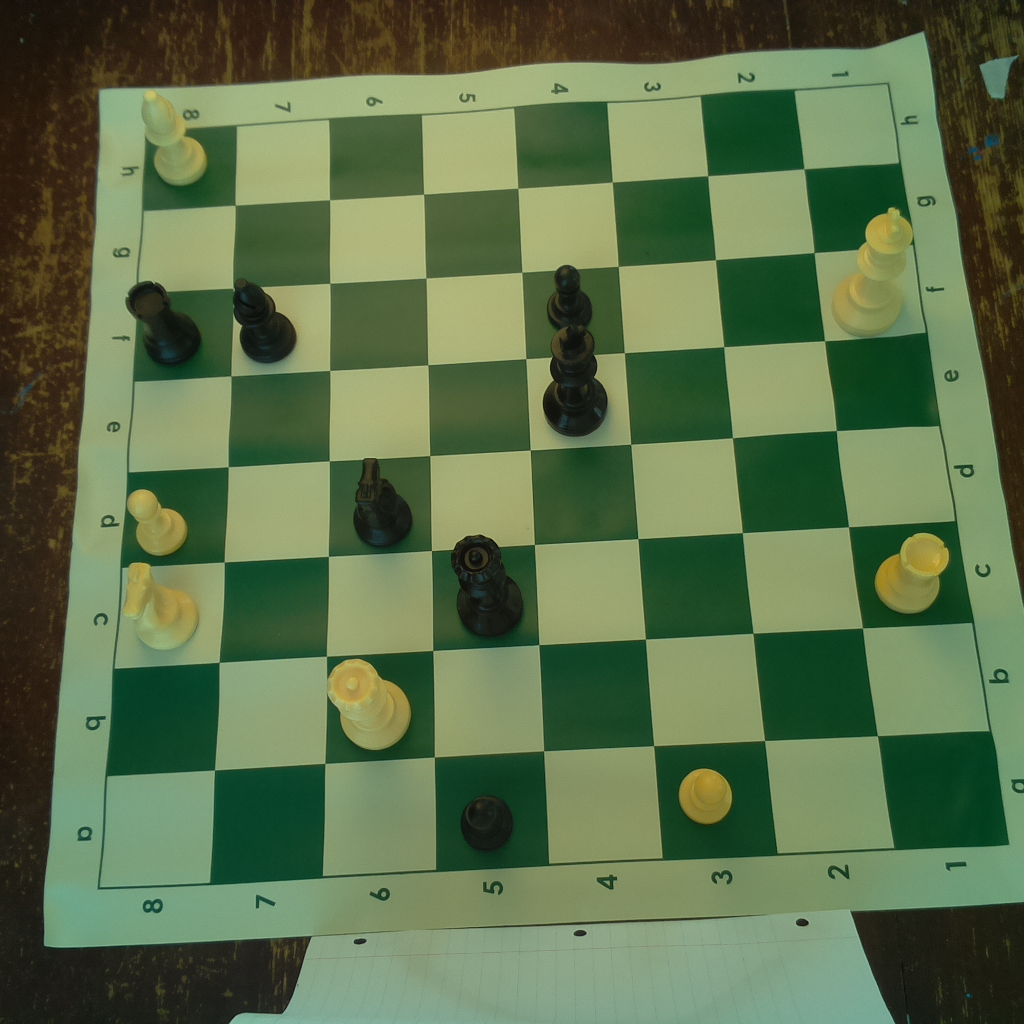black_bishop: (229, 274, 299, 366)
black_king: (538, 317, 612, 440)
black_knight: (342, 457, 415, 547)
black_pawn: (451, 790, 524, 854), (541, 264, 598, 332)
black_queen: (447, 531, 527, 639)
black_rook: (123, 275, 208, 369)
file_a: (98, 728, 1010, 890)
file_b: (103, 622, 988, 778)
file_c: (116, 519, 973, 667)
file_d: (123, 427, 960, 566)
file_e: (128, 334, 942, 474)
file_f: (134, 245, 929, 384)
file_g: (132, 164, 915, 293)
file_h: (144, 86, 902, 212)
outline: (99, 84, 1008, 892)
rank_1: (793, 83, 1010, 849)
rank_2: (703, 87, 893, 857)
rank_3: (607, 95, 780, 860)
rank_4: (514, 100, 666, 866)
rank_5: (423, 108, 549, 874)
rank_6: (324, 112, 440, 873)
rank_7: (210, 119, 328, 884)
rank_8: (98, 125, 238, 887)
white_bishop: (137, 84, 210, 191)
white_king: (825, 202, 915, 338)
white_knight: (114, 558, 205, 657)
white_pawn: (124, 486, 194, 556), (675, 758, 737, 827)
white_queen: (323, 656, 415, 753)
white_rook: (870, 519, 953, 615)
